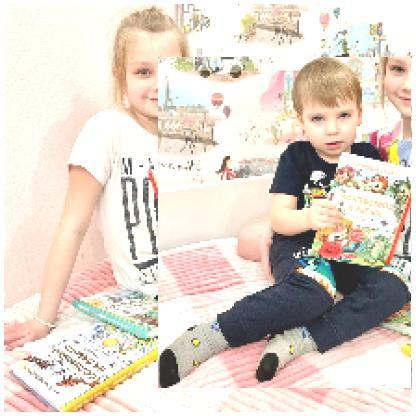child: (159, 58, 413, 390)
